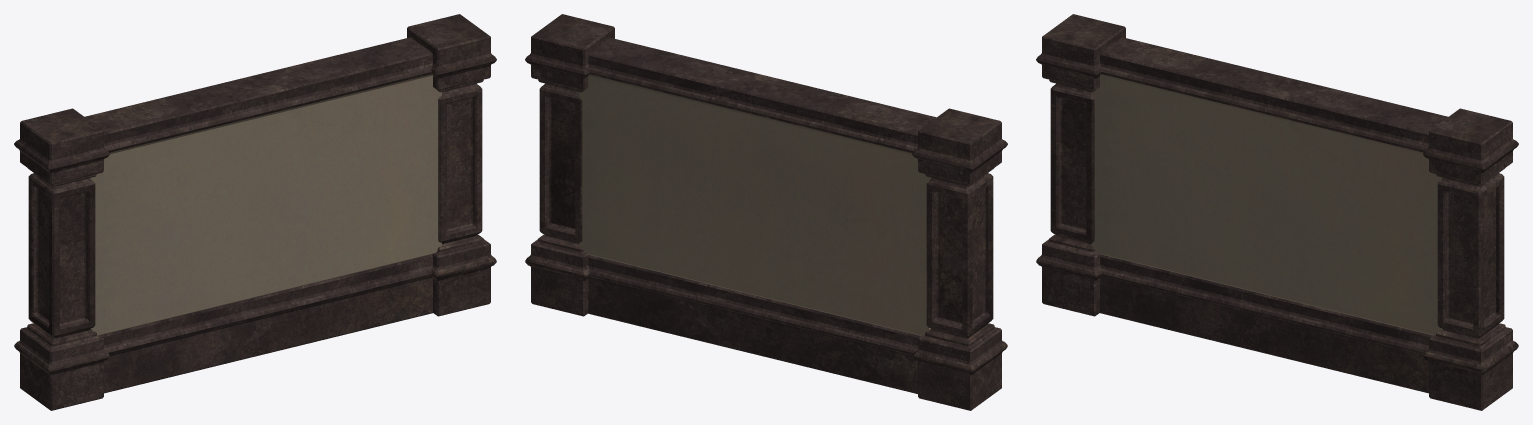
The model's file is SK2 RAILING SHORT.fbx.
The picture shows the model from 3 angles, left to right: view 1: azimuth 30°, elevation 25°; view 2: azimuth 150°, elevation 25°; view 3: azimuth 330°, elevation 25°; orthographic projection.
Parts seen in each view (by area): view 1: SK2 RAILING SHORT; view 2: SK2 RAILING SHORT; view 3: SK2 RAILING SHORT.
Boxes of the visible parts, <box> form: SK2 RAILING SHORT: <box>14,14,496,410</box>; SK2 RAILING SHORT: <box>525,14,1007,410</box>; SK2 RAILING SHORT: <box>1036,14,1518,410</box>.
Size of the model in its own units: 199 by 114 by 27.43.
